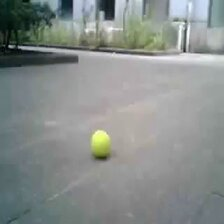tennis: (90, 130, 111, 156)
